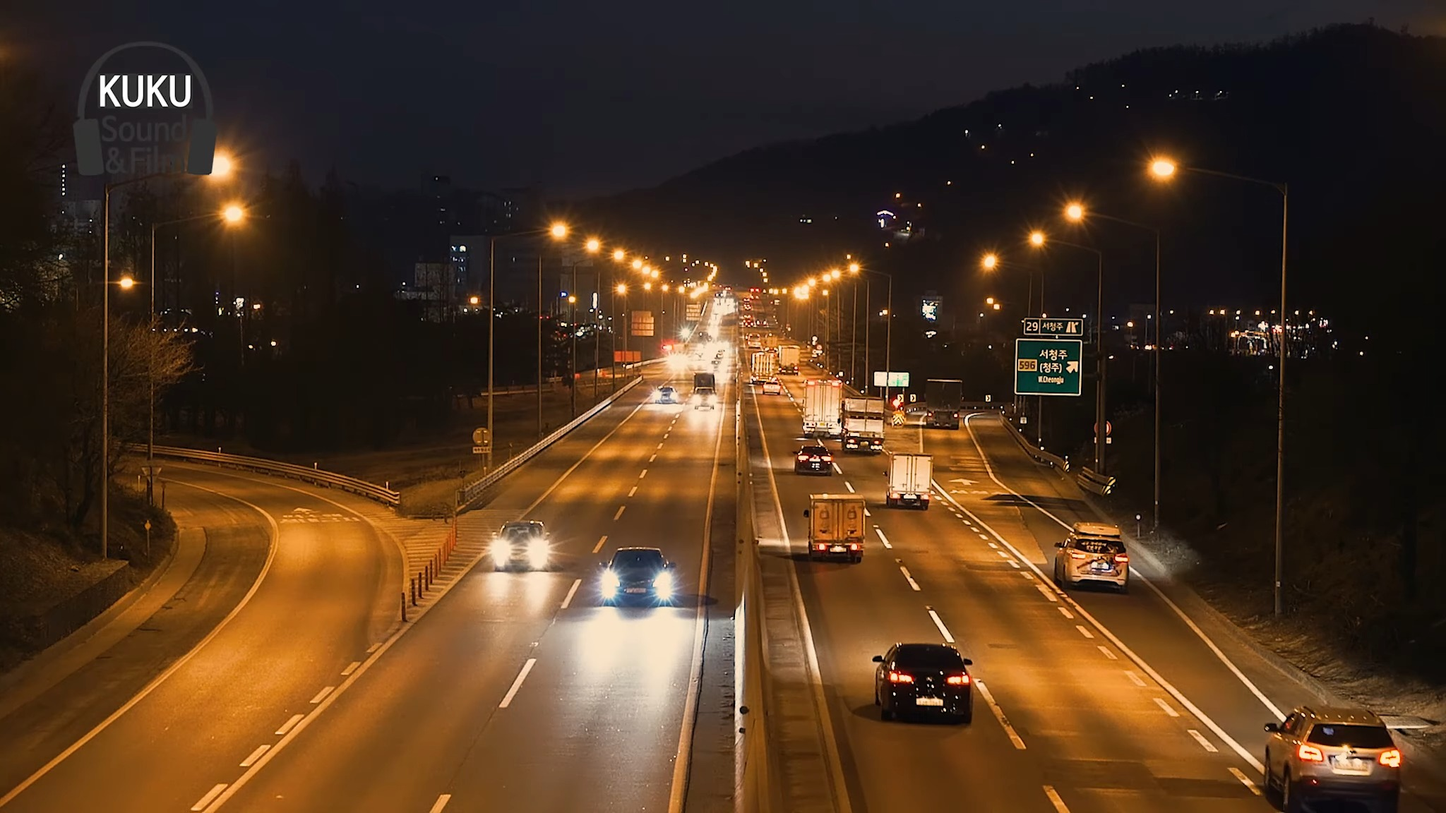car: (1254, 694, 1411, 809), (872, 642, 974, 731), (1051, 519, 1134, 588), (604, 547, 674, 608), (482, 519, 554, 573), (795, 434, 830, 480)
truck: (805, 489, 871, 559), (883, 448, 935, 515)
